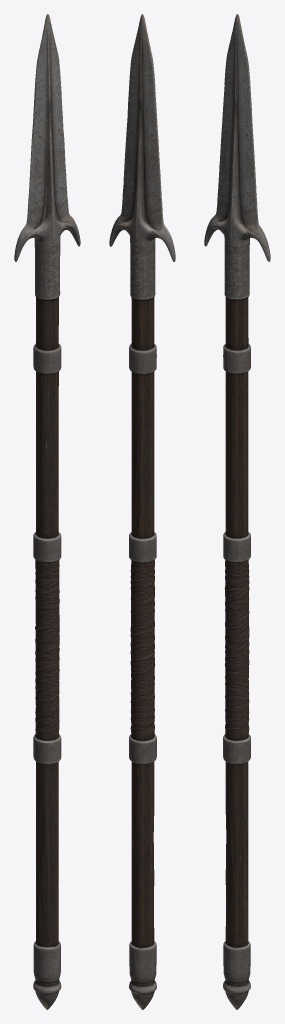
File: spear_v1.glb
3 views of the same model, side by side, from view 1: azimuth 30°, elevation 25°; view 2: azimuth 150°, elevation 25°; view 3: azimuth 330°, elevation 25° (orthographic).
Visible parts, largest first — view 1: Mesh_0; view 2: Mesh_0; view 3: Mesh_0.
Boxes of the visible parts, <box> form: Mesh_0: <box>14,14,80,1009</box>; Mesh_0: <box>109,14,175,1009</box>; Mesh_0: <box>204,14,270,1009</box>.
Bounding box in the file's own units: 0.1312 × 1.9 × 0.0489.
Materials: 1 (1 with a texture image).
